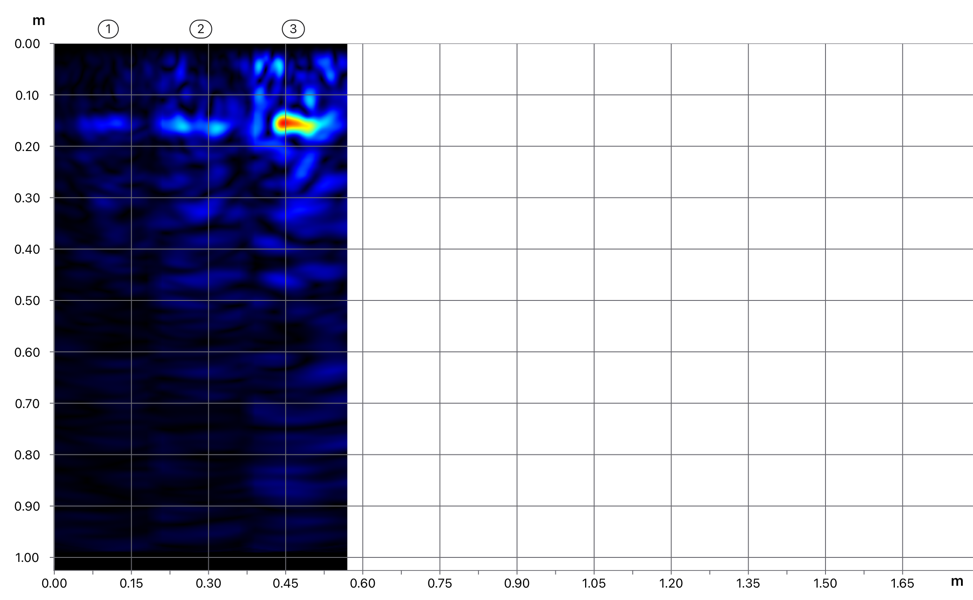crop: (1, 0, 347, 330)
